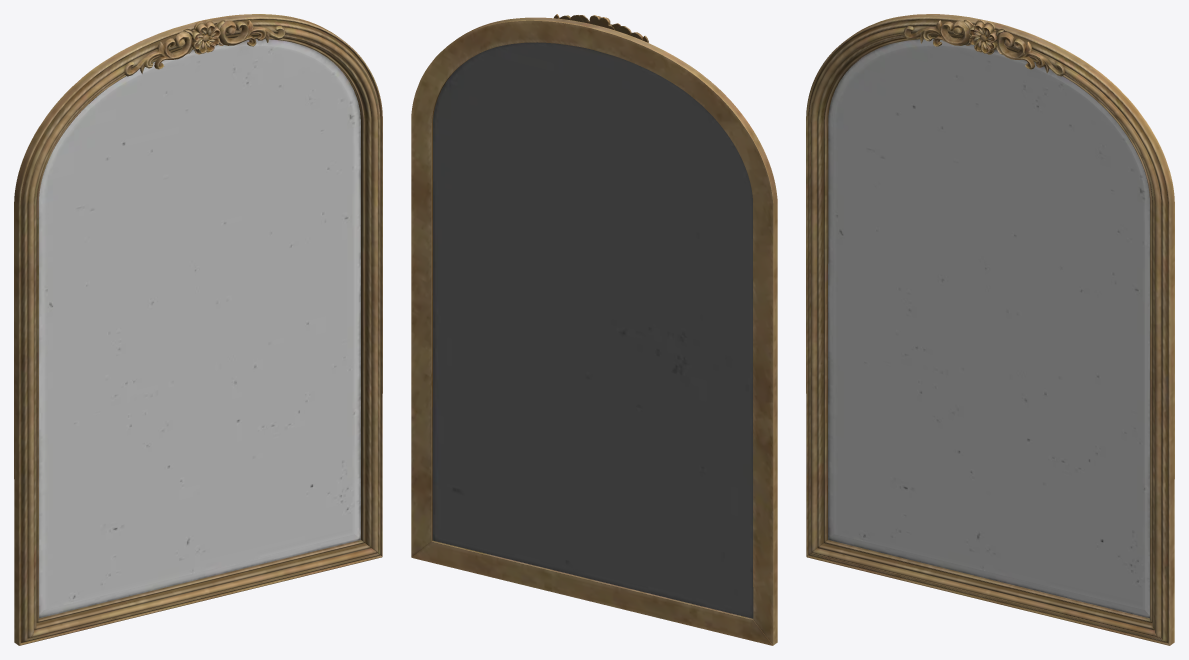
The model's file is ornate_mirror_01.glb.
The picture shows the model from 3 angles, left to right: view 1: azimuth 30°, elevation 25°; view 2: azimuth 150°, elevation 25°; view 3: azimuth 330°, elevation 25°; orthographic projection.
Visible parts, largest first — view 1: ornate_mirror_01; view 2: ornate_mirror_01; view 3: ornate_mirror_01.
Boxes of the visible parts, bbox=[...] form: ornate_mirror_01: bbox=[14, 14, 382, 645]; ornate_mirror_01: bbox=[411, 14, 777, 645]; ornate_mirror_01: bbox=[806, 14, 1174, 645].
Bounding box in the file's own units: 0.4865 × 0.7442 × 0.026.
1 material, 1 textured.
